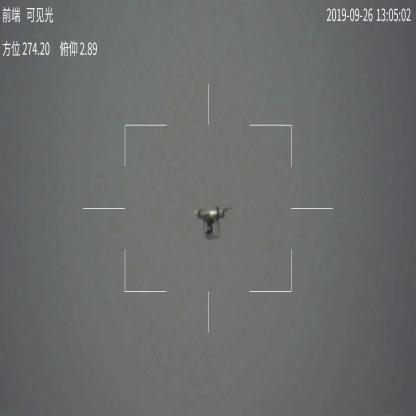uav: (195, 204, 232, 239)
